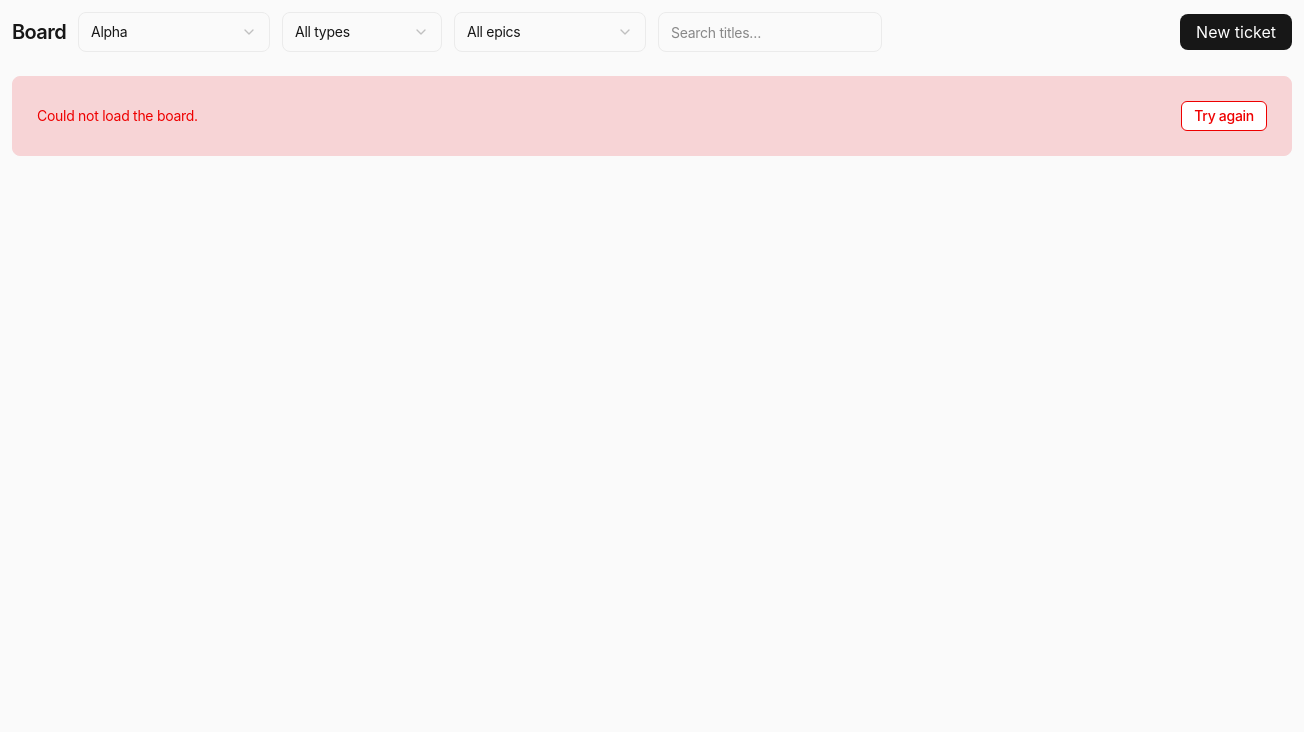
Test case: BoardPage › board_shouldRenderErrorThenRecover_whenBoardQueryFailsThenRetried
Expected: the text "Could not load the board." is shown, [37, 106, 198, 126]
Click the button "Try again". click: click(1224, 116)
box: [1181, 101, 1267, 131]
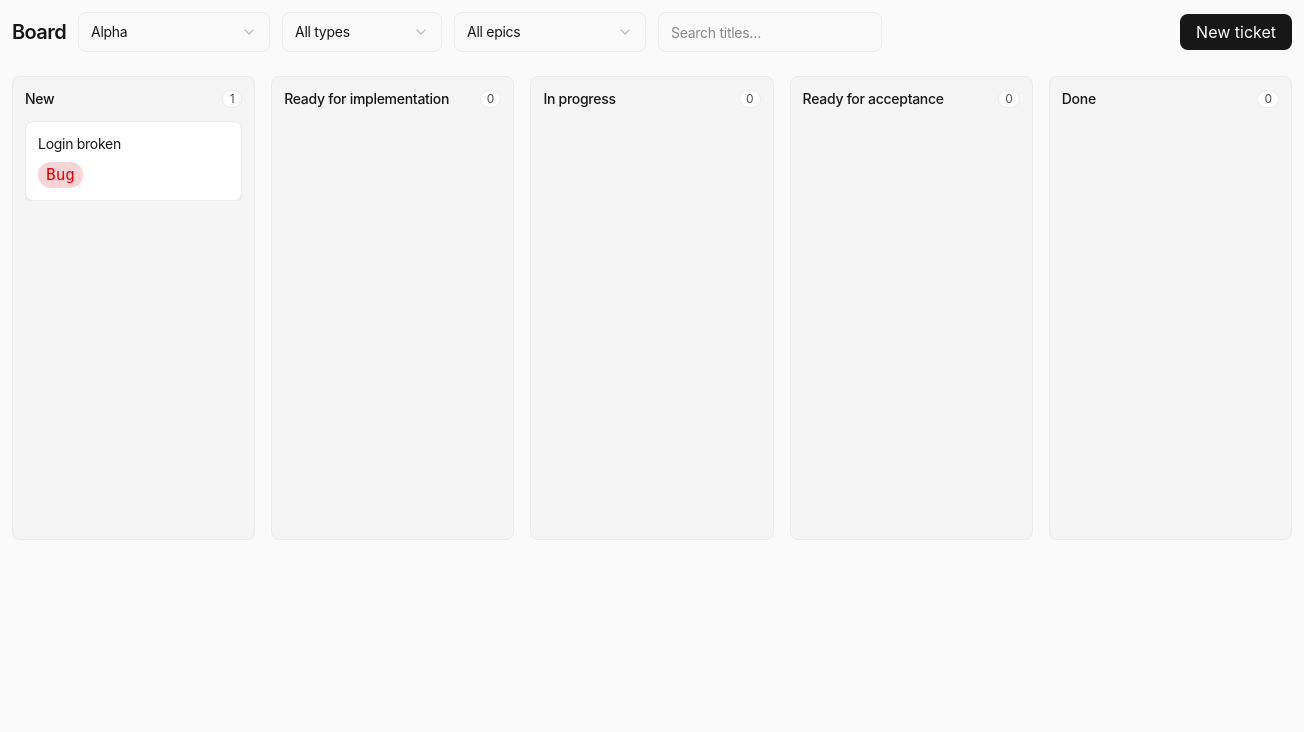
Expected: the element with test id "board" is shown
